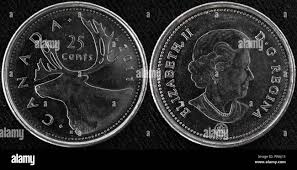coin: (2, 2, 146, 146), (150, 2, 294, 146)
